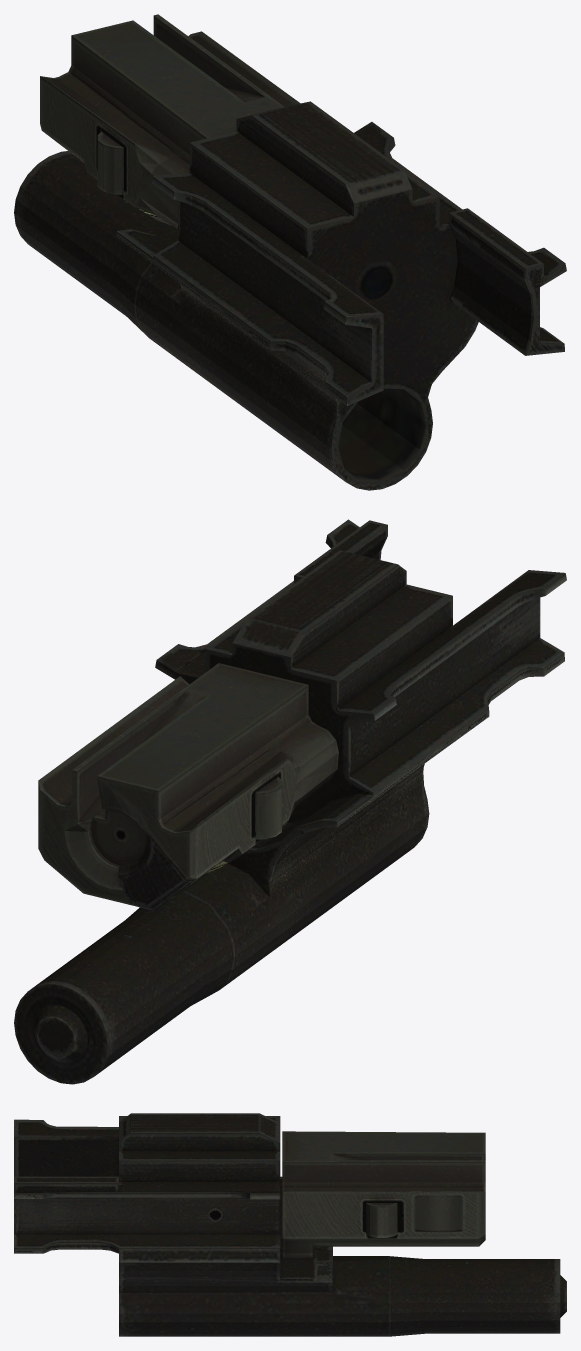
3 renders of one model, top to bottom at view 1: azimuth 30°, elevation 25°; view 2: azimuth 150°, elevation 25°; view 3: azimuth 270°, elevation 25°, orthographic. The views are drawn at different scales.
Visible parts, largest first — view 1: TW_5926bb2186f7744b1c6c6e60_PZ_Import; view 2: TW_5926bb2186f7744b1c6c6e60_PZ_Import; view 3: TW_5926bb2186f7744b1c6c6e60_PZ_Import.
Part boxes in pixels (<box>): TW_5926bb2186f7744b1c6c6e60_PZ_Import: <box>14,14,566,490</box>; TW_5926bb2186f7744b1c6c6e60_PZ_Import: <box>14,519,566,1084</box>; TW_5926bb2186f7744b1c6c6e60_PZ_Import: <box>14,1113,566,1336</box>.
Bounding box in the file's own units: 0.0196 × 0.0616 × 0.0258.
1 material, 1 textured.
